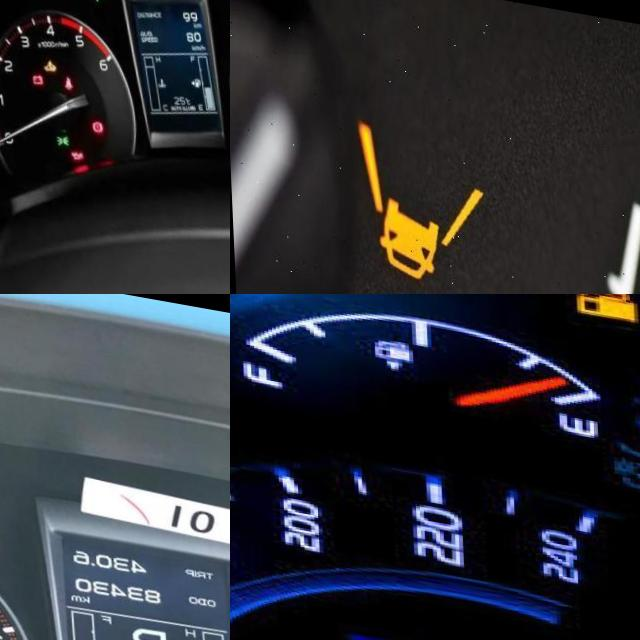Seat Belt: (61, 69, 69, 83)
